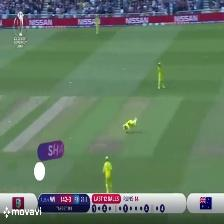ball: (68, 135, 74, 142)
